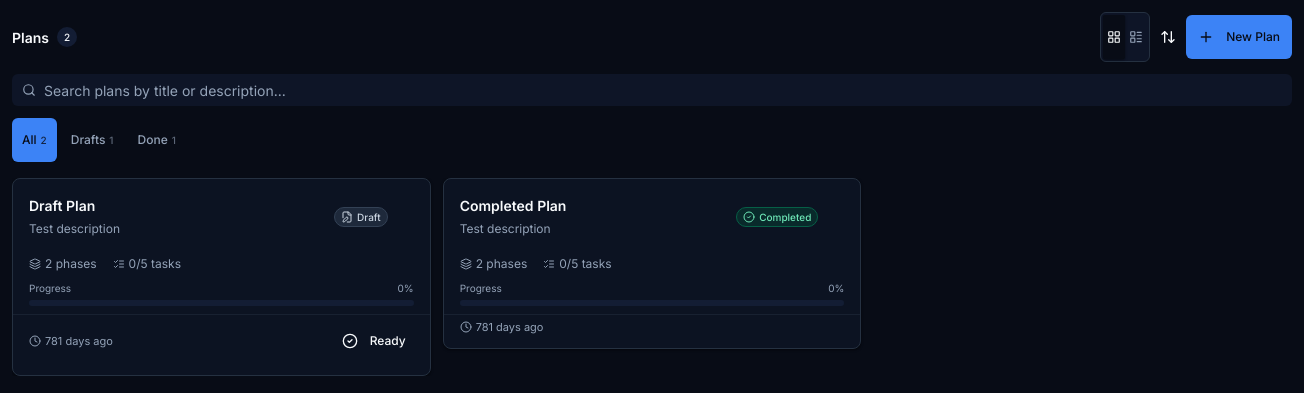
PlanList › should filter by status when status tab is clicked
The image size is (1304, 393).
# Click "Done" tab to filter completed plans
Click the button "Done1" at [157, 140], box [128,118,186,162]
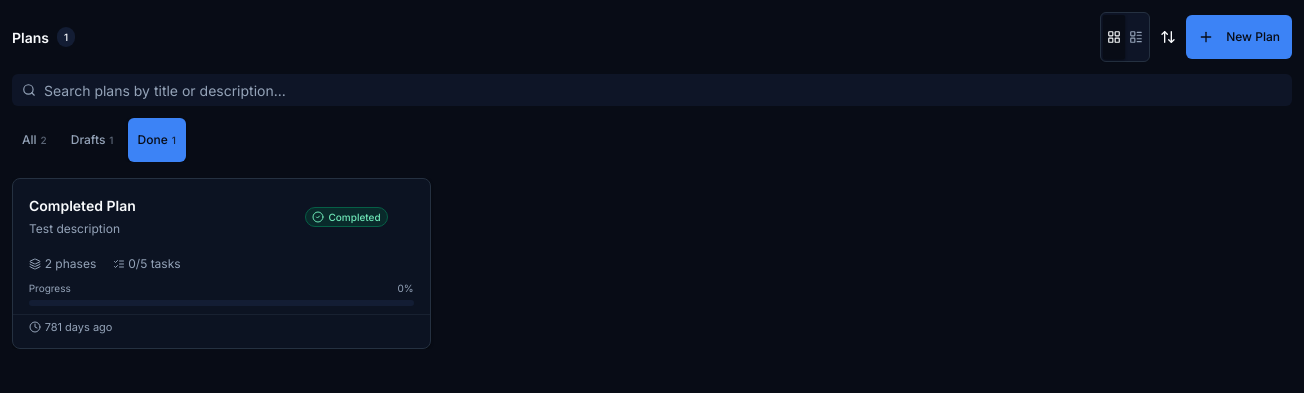
Expected: the heading "Completed Plan" is shown, [29,197,136,214]
Expected: the heading "Draft Plan" is gone
